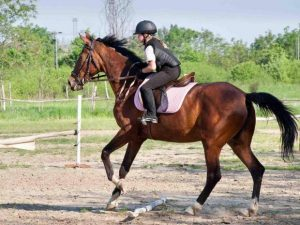child: (132, 23, 181, 124)
horse: (72, 34, 297, 213)
